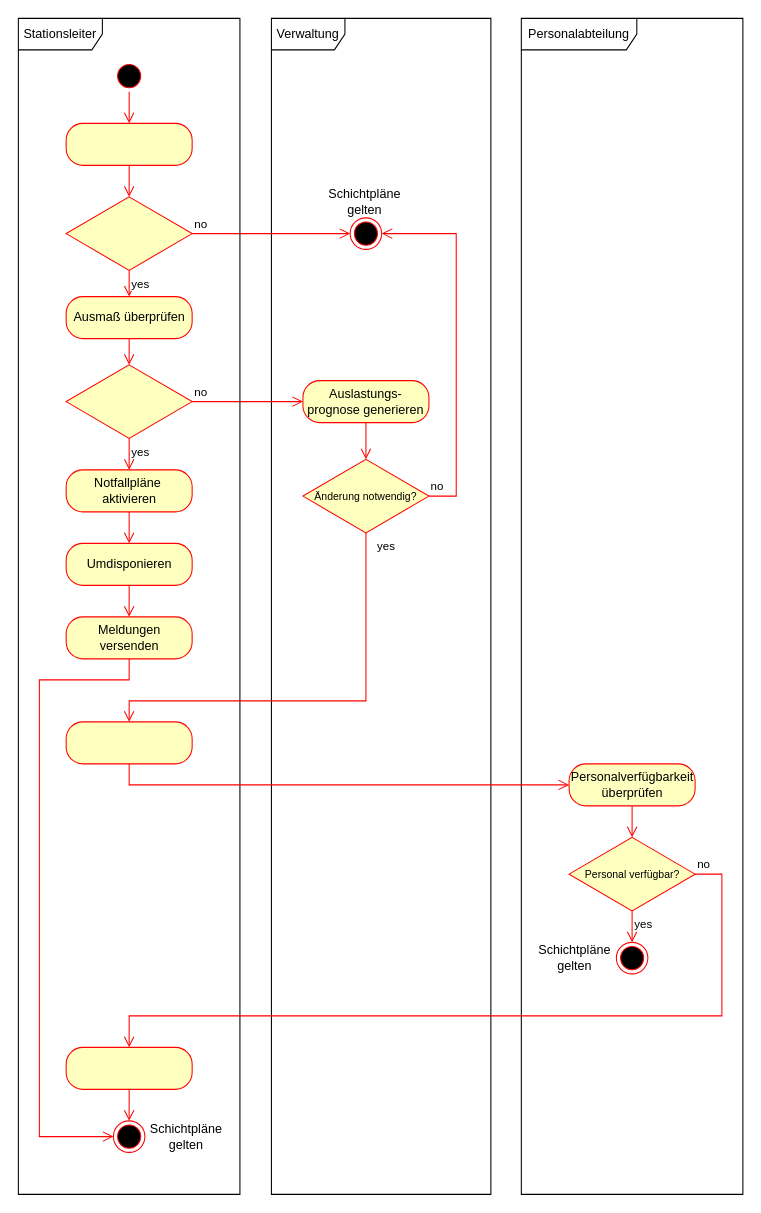
Image size: 761x1213. Some labels were removed from this diagram. Here are the shapes that lost their labels. From the top down, the centre of each, then its label:
At [128,143]: "Personalbedarf ermitteln".
At [128,233]: "Personalbedarf schwankt?".
At [128,401]: "Notfall-Reaktion notwendig?".
At [128,742]: "Schichtpläne erstellen".
At [128,1067]: "Schichtpläne anpassen".
